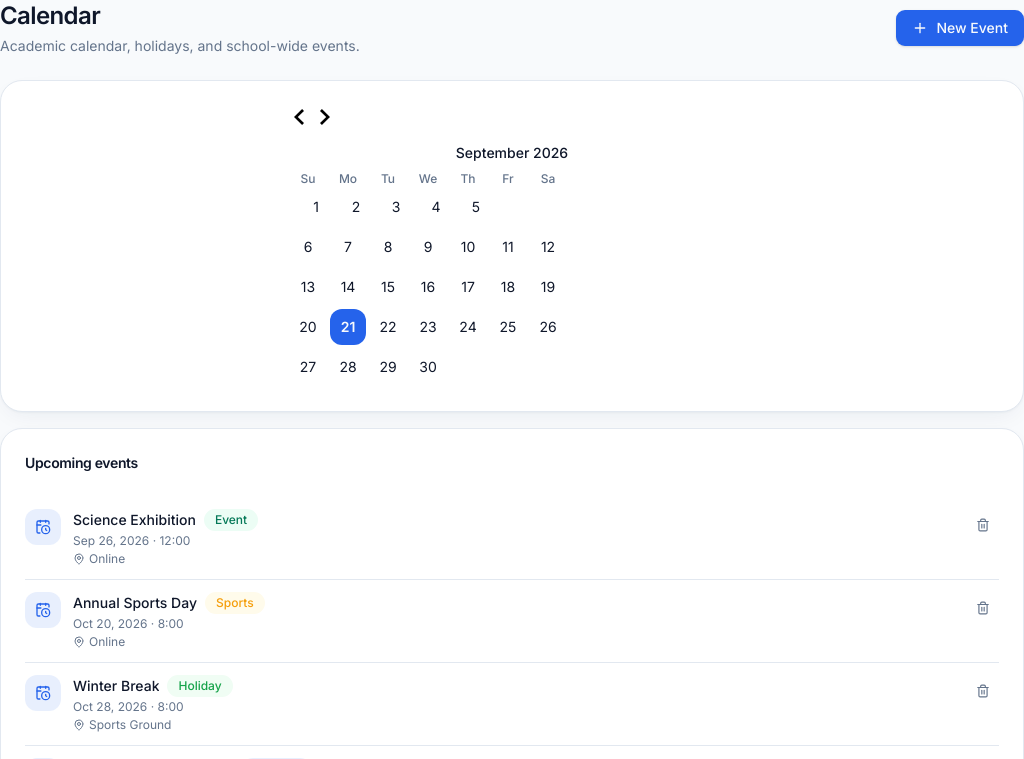
Test: CalendarPage › creates a new event scoped to the current school and adds it to the list
This screenshot has width=1024, height=759.
Click the button "New Event": [960, 28] box [896, 10, 1023, 46]
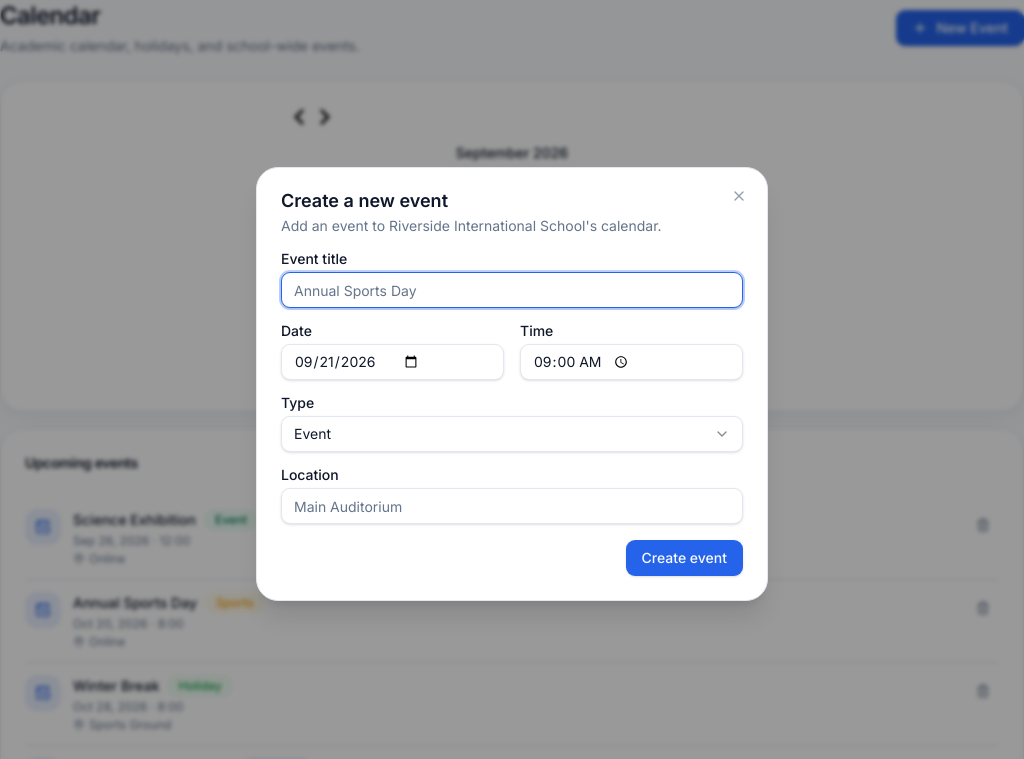
In the field labelled "Event title": [512, 290] box [281, 272, 743, 308], type "QA Automation Drill"
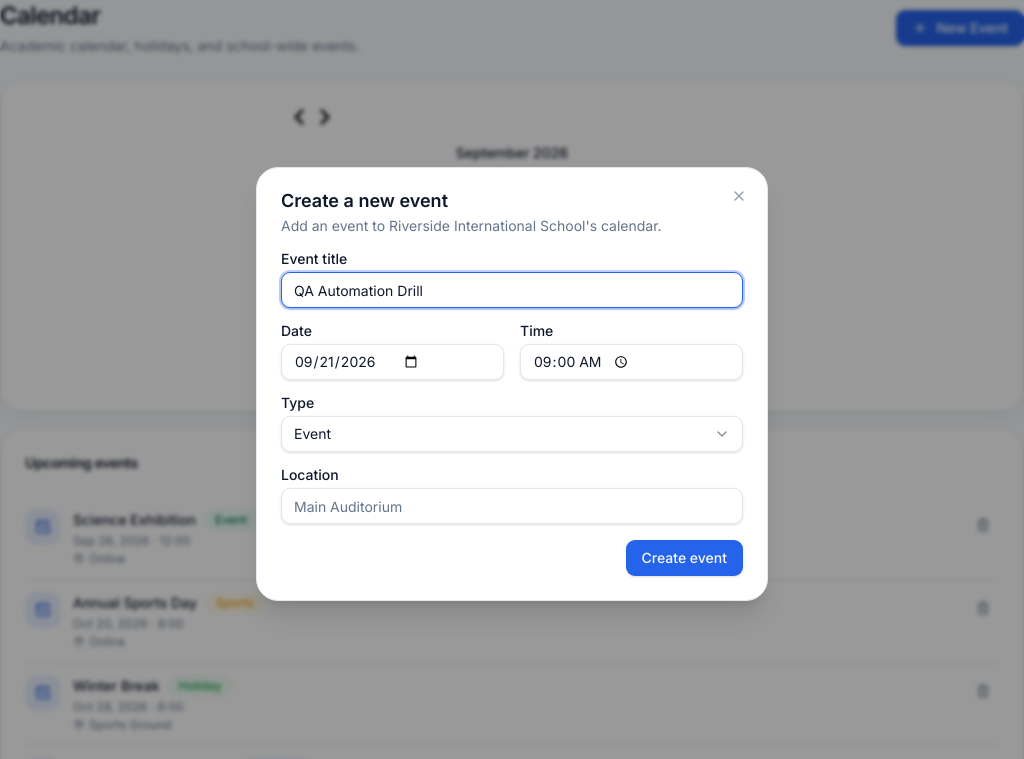
Click the dropdown named "type": [313, 434] box [281, 416, 743, 452]
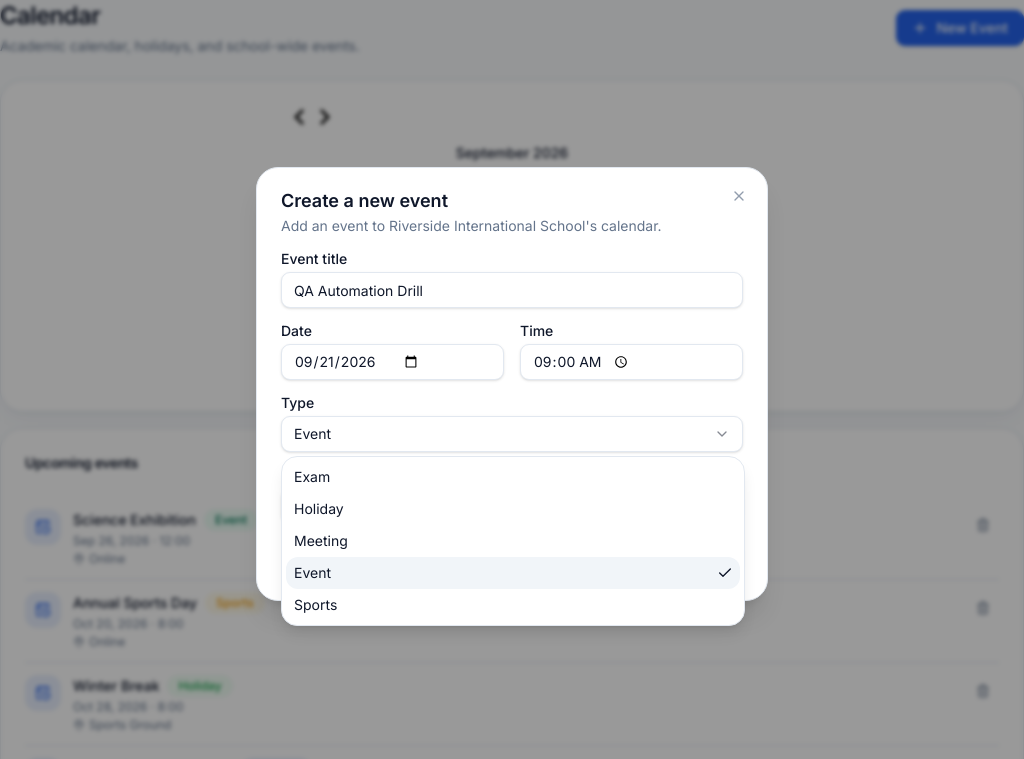
Click the option "Meeting": [321, 540] box [294, 532, 348, 549]
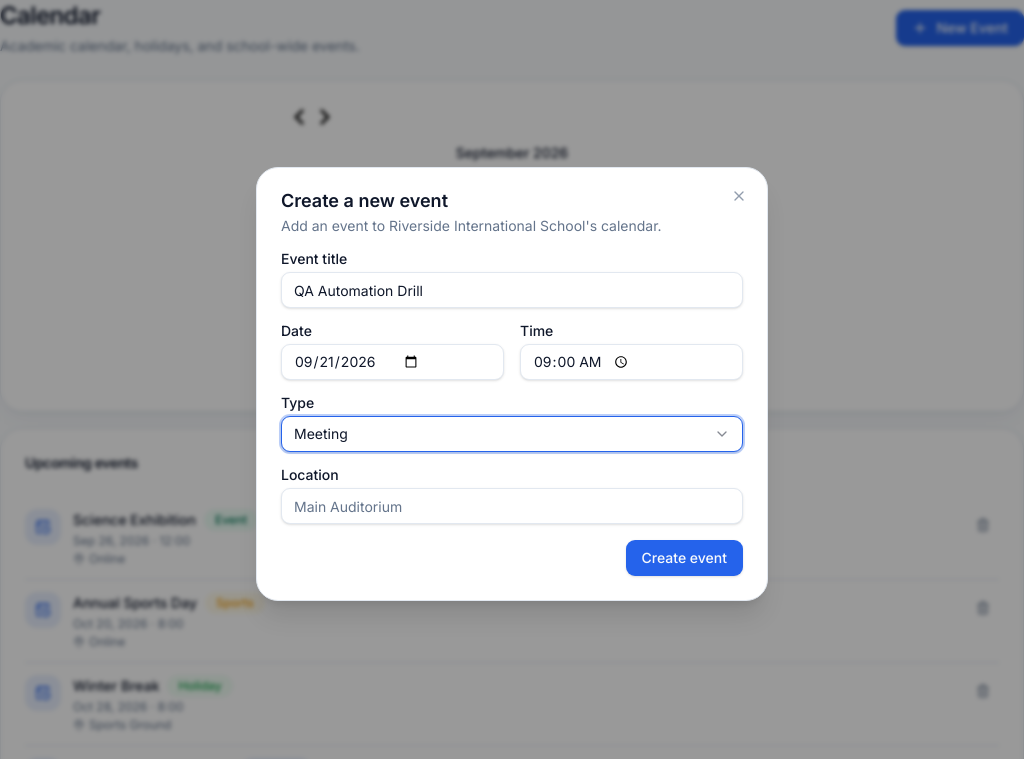
In the field labelled "Location": [512, 506] box [281, 488, 743, 524], type "Room 204"
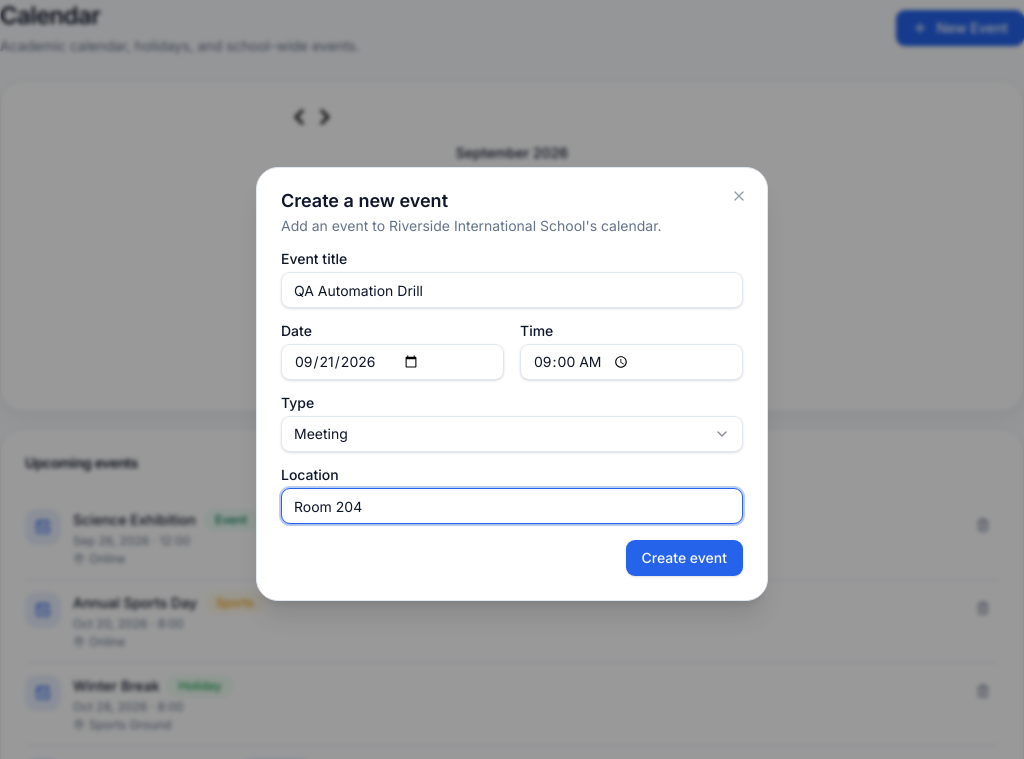
Click the button "Create event": [684, 558] box [626, 540, 743, 576]
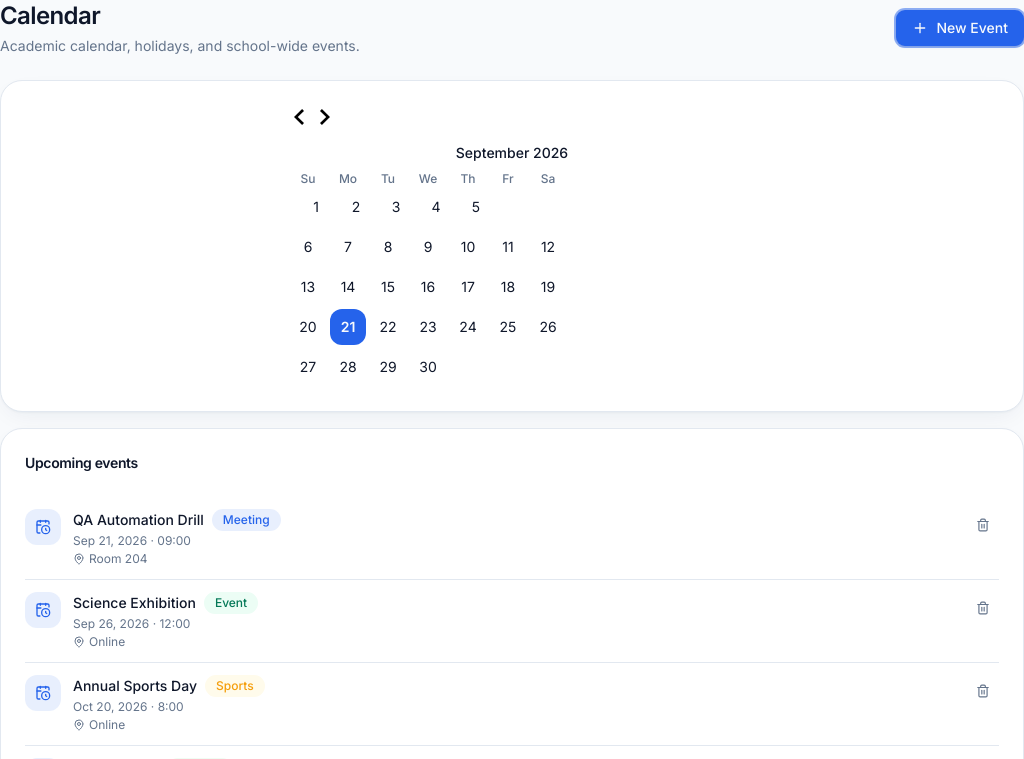
Expected: the text "QA Automation Drill" is shown, [73, 510, 204, 530]
